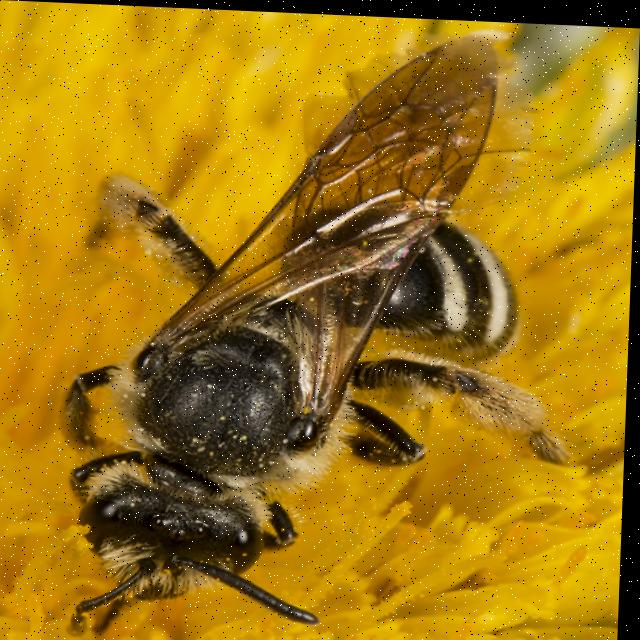Lasioglossum: (52, 12, 582, 640)
